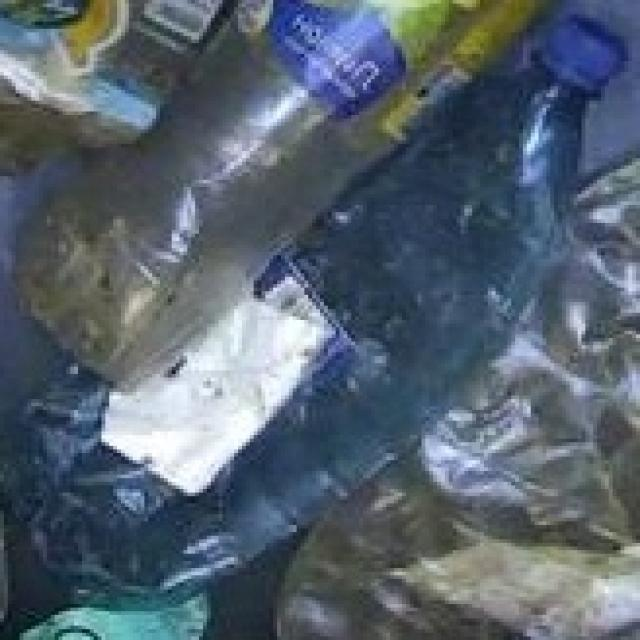plasticbottle: (0, 0, 640, 640), (12, 0, 577, 412)
